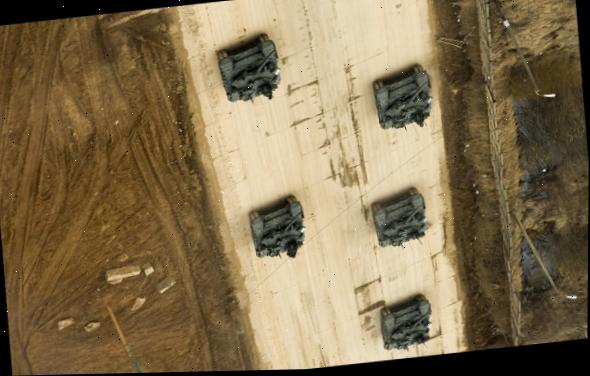tank: (216, 29, 284, 109), (369, 61, 437, 134), (246, 193, 306, 263), (368, 184, 431, 249), (377, 293, 437, 354)
